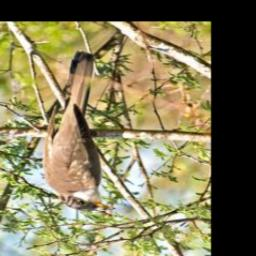Cuckoo: (41, 52, 115, 212)
